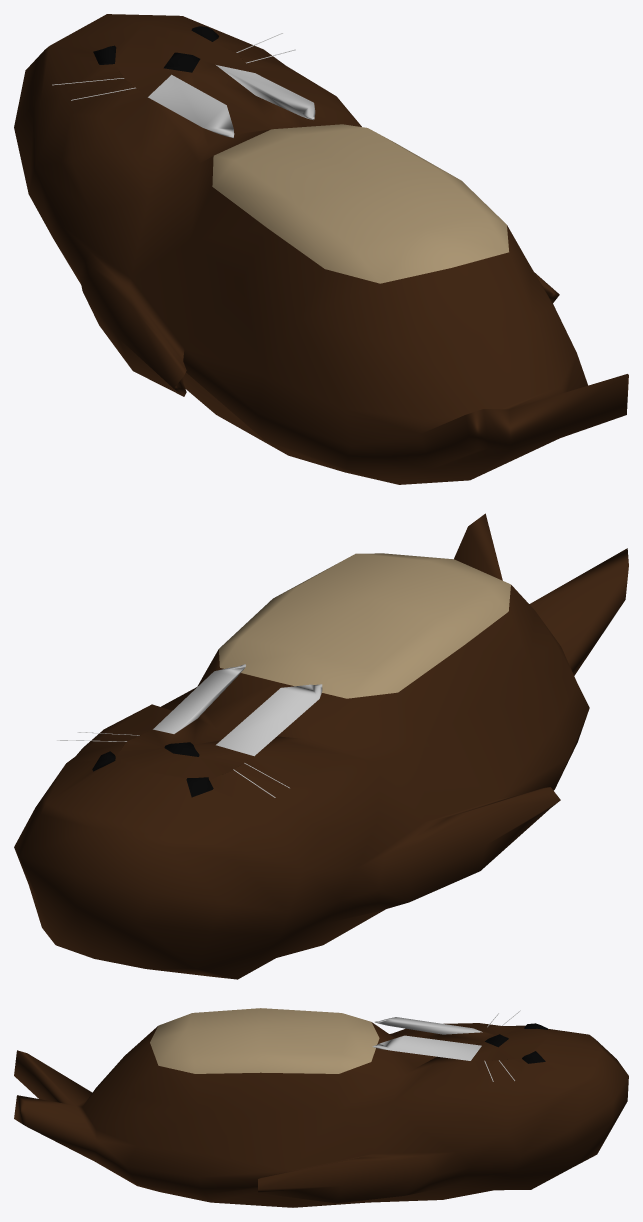
Rendered from MorsaTrampolin.fbx.
The picture shows the model from 3 angles, top to bottom: view 1: azimuth 30°, elevation 25°; view 2: azimuth 150°, elevation 25°; view 3: azimuth 270°, elevation 25°; orthographic projection. The views are drawn at different scales.
Visible parts, largest first — view 1: ColorMorsa001; view 2: ColorMorsa001; view 3: ColorMorsa001.
Part boxes in pixels (<box>): ColorMorsa001: <box>14,14,628,484</box>; ColorMorsa001: <box>14,513,628,979</box>; ColorMorsa001: <box>14,1008,628,1207</box>.
Size of the model in its own units: 3.42 by 2.09 by 7.4.
